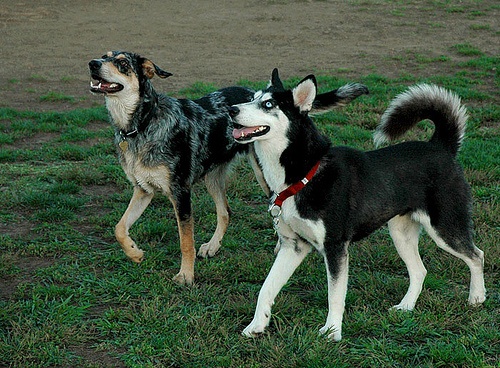dog: (228, 66, 487, 341), (86, 47, 373, 288)
